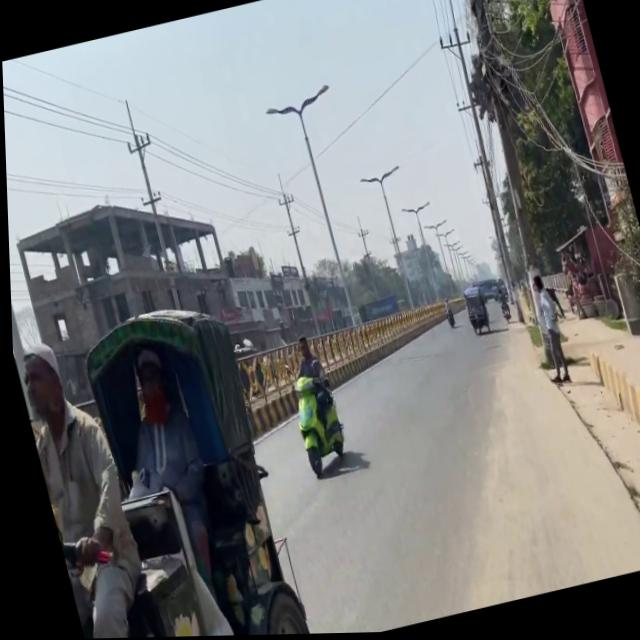Construction-barrier: (549, 367, 640, 581)
Fallen-tree: (282, 371, 350, 481), (541, 286, 562, 323), (464, 308, 488, 339), (494, 298, 510, 326), (560, 289, 574, 316)
Garbage-bin: (10, 324, 164, 640), (91, 341, 232, 615), (279, 333, 337, 438), (522, 275, 571, 388), (438, 298, 454, 330)
Pothole: (510, 264, 640, 584)
Traffic-cone: (9, 293, 310, 640)
